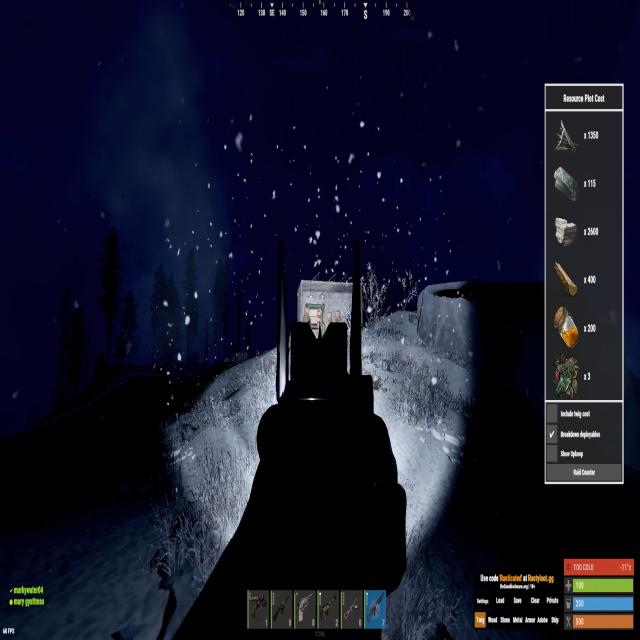Player: (316, 307, 323, 339)
